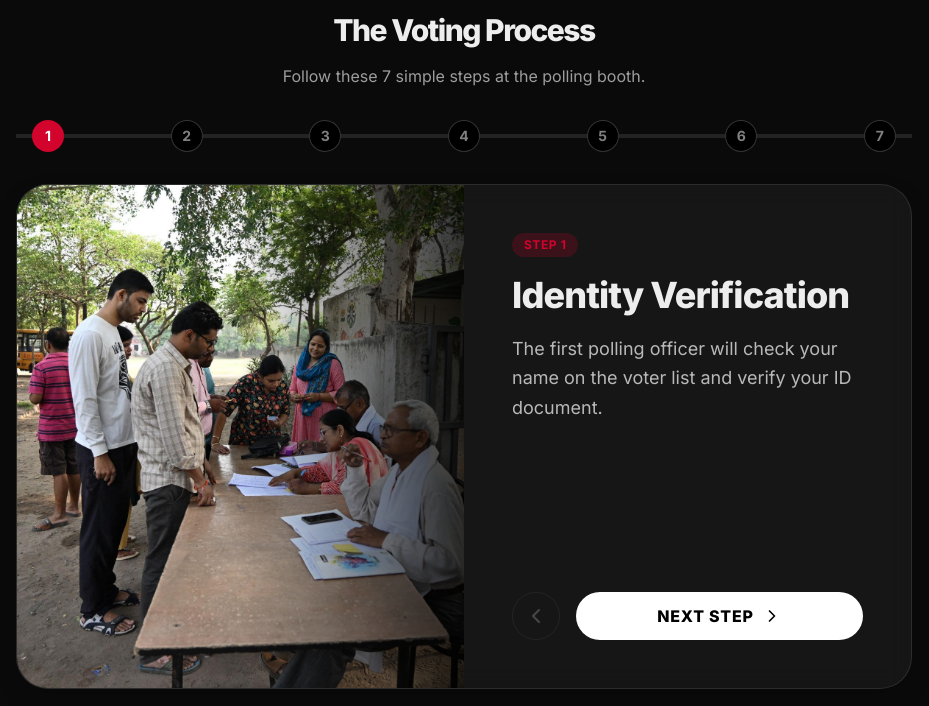
Test: VotingProcess › should navigate directly to a step when clicking the progress dot
Note: Click the 5th step dot
Click the button "5": (603, 136) [587,120,619,152]
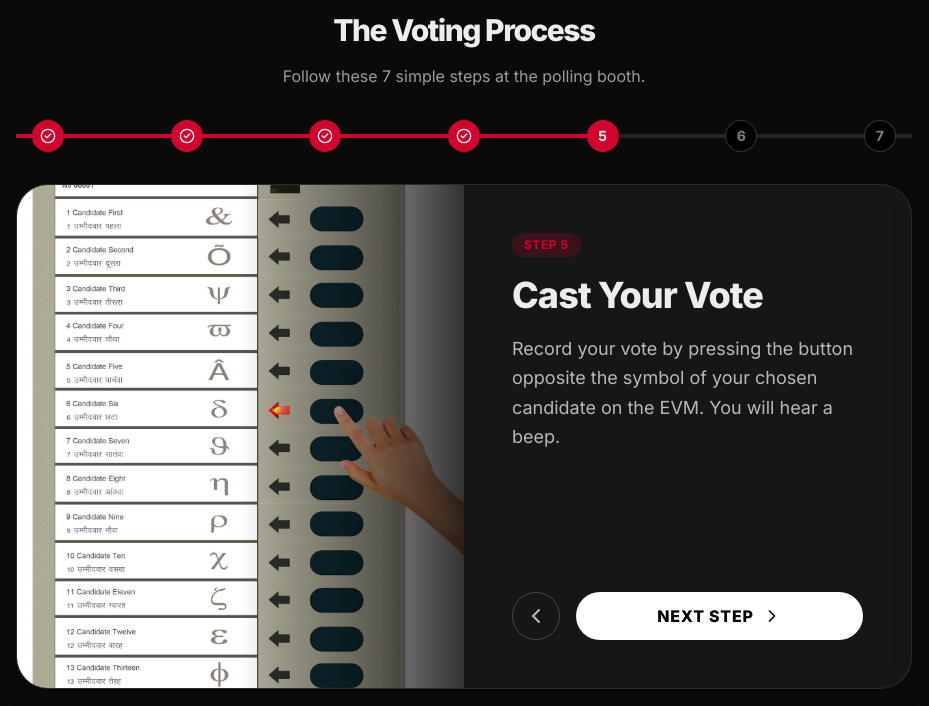
Check: the heading "Cast Your Vote" is shown, box [512,273,763,317]
